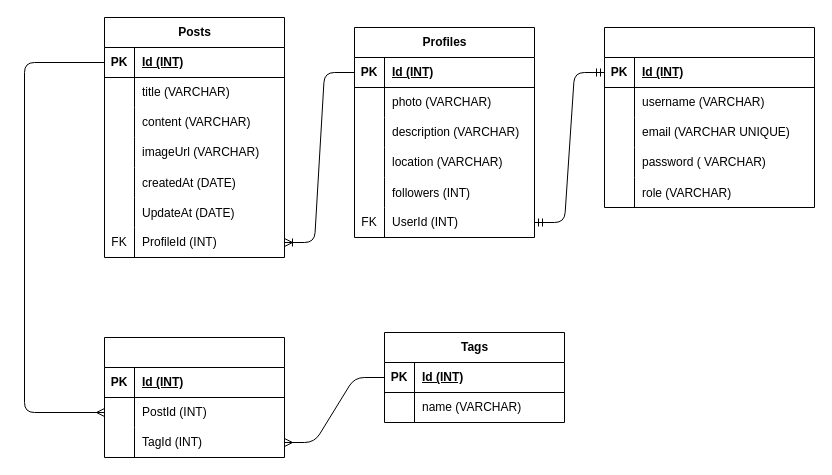
Image size: 832x475. Some labels were removed from this diagram. Here are the shapes that lost their labels. From the top down, the box of each, then its label:
(604, 26, 814, 208): Users
(104, 336, 284, 458): PostTag
